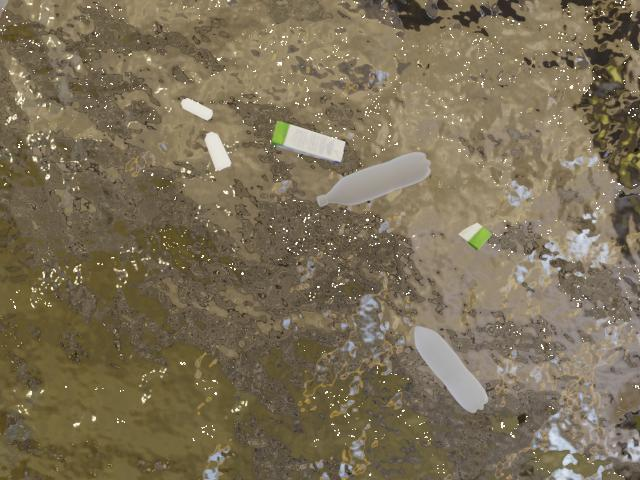Metal: (198, 130, 239, 182), (176, 85, 229, 124)
Plastic: (305, 134, 463, 226), (402, 306, 495, 423)
Trash: (263, 108, 359, 164), (454, 216, 496, 255)
